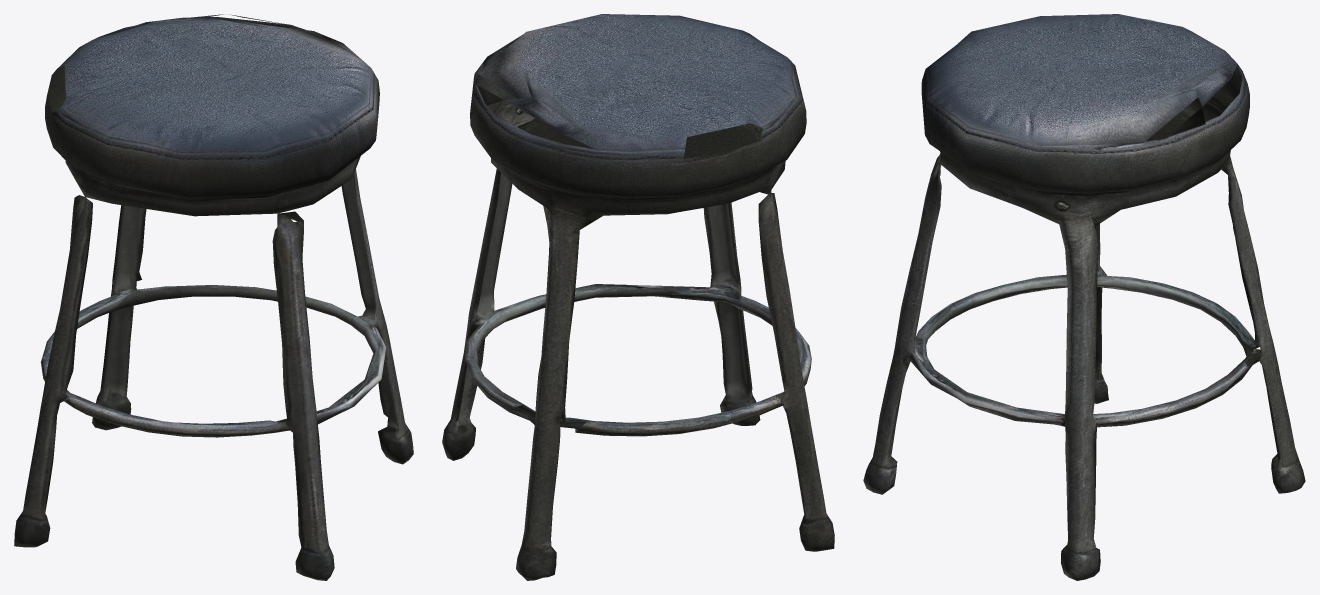
File: stool.glb
The picture shows the model from 3 angles, left to right: view 1: azimuth 30°, elevation 25°; view 2: azimuth 150°, elevation 25°; view 3: azimuth 270°, elevation 25°; orthographic projection. The views are drawn at different scales.
Parts seen in each view (by area): view 1: tripo_node_d3f71353; view 2: tripo_node_d3f71353; view 3: tripo_node_d3f71353.
Part boxes in pixels (x1,y1,x2,y2): tripo_node_d3f71353: [14, 14, 413, 580]; tripo_node_d3f71353: [442, 14, 834, 580]; tripo_node_d3f71353: [863, 14, 1305, 580].
Size of the model in its own units: 0.5918 by 0.62 by 0.5868.
Materials: 1 (1 with a texture image).
